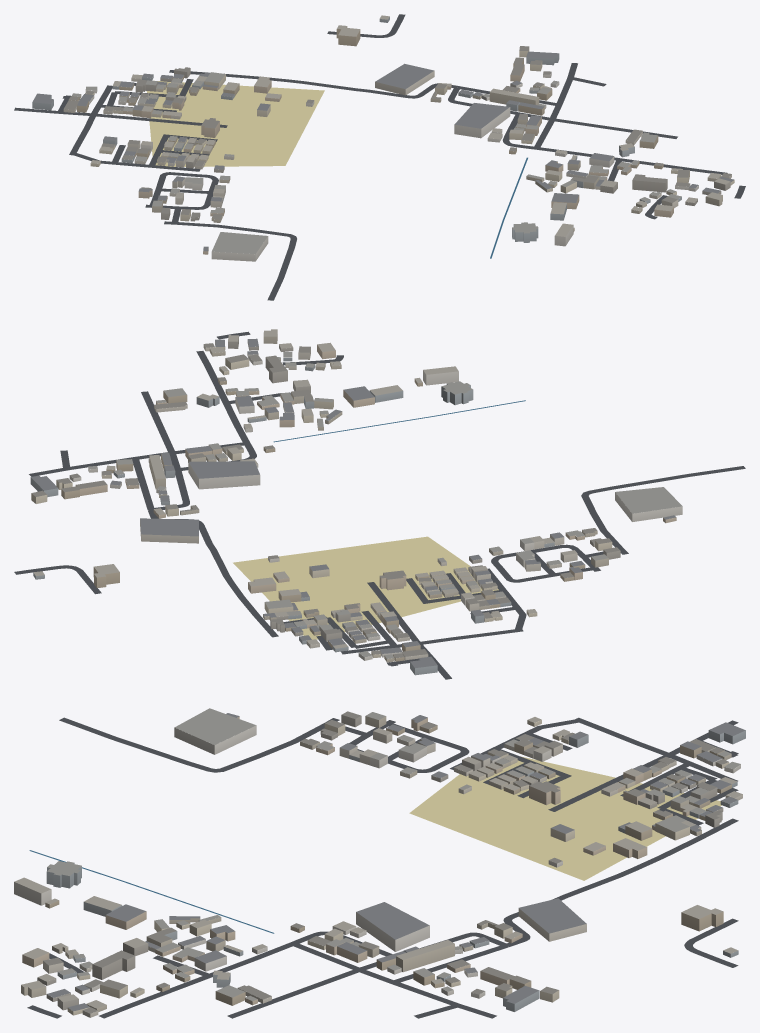
The picture shows the model from 3 angles, top to bottom: view 1: azimuth 30°, elevation 25°; view 2: azimuth 150°, elevation 25°; view 3: azimuth 270°, elevation 25°; orthographic projection. The views are drawn at different scales.
Visible parts, largest first — view 1: buildings_roofs, buildings_walls, landuse, roads; view 2: buildings_roofs, buildings_walls, landuse, roads; view 3: buildings_walls, buildings_roofs, landuse, roads.
Part boxes in pixels (x1,y1,x2,y2): buildings_roofs: (32, 15, 734, 254); buildings_walls: (32, 17, 734, 261); landuse: (146, 80, 324, 166); roads: (14, 14, 745, 300); buildings_roofs: (31, 329, 682, 668); buildings_walls: (30, 334, 682, 675); landuse: (233, 536, 498, 639); roads: (14, 331, 745, 679); buildings_walls: (14, 715, 745, 1017); buildings_roofs: (14, 708, 745, 1013); landuse: (409, 756, 721, 880); roads: (27, 717, 738, 1018).
Size of the model in its own units: 506 by 9.62 by 518.
